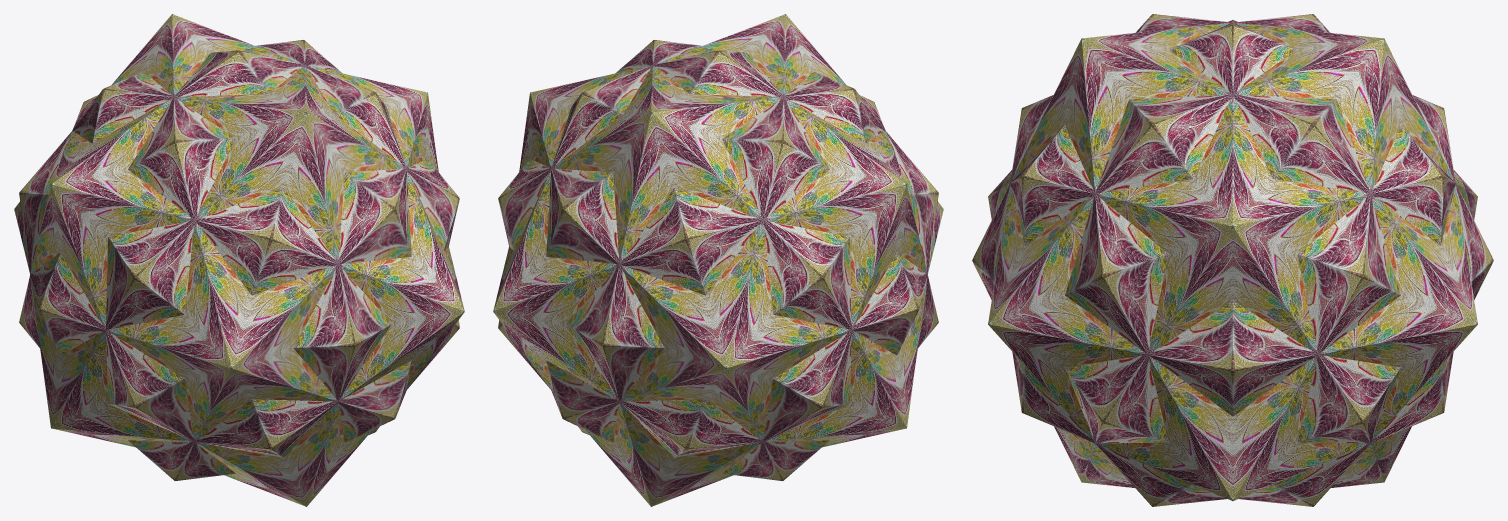
Rendered from MedialDeltoidalHexecontahedron4.obj.
3 views of the same model, side by side, from view 1: azimuth 30°, elevation 25°; view 2: azimuth 150°, elevation 25°; view 3: azimuth 270°, elevation 25° (orthographic). The views are drawn at different scales.
Bounding box in the file's own units: 2.68 × 2.68 × 2.68.
1 material, 1 textured.
